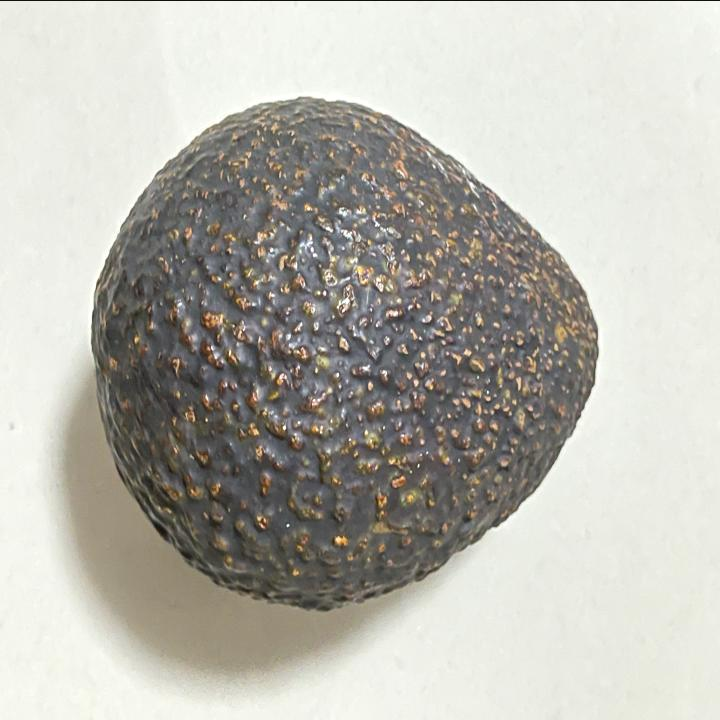Level1: (77, 63, 620, 634)
